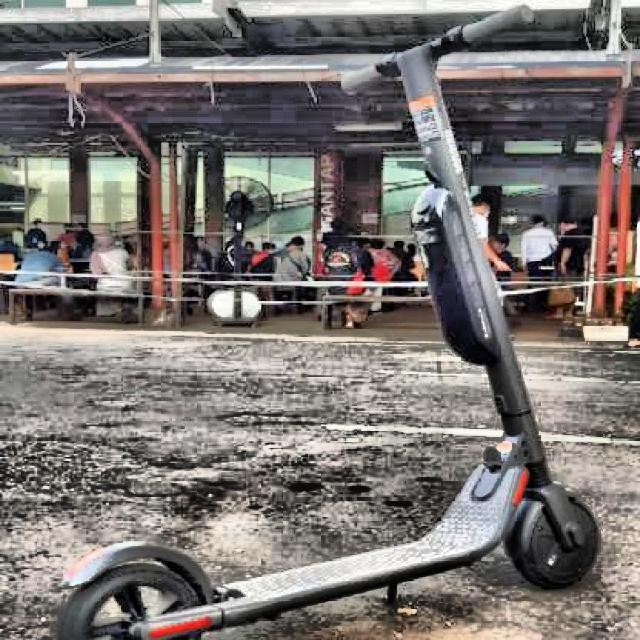bike: (56, 164, 603, 640)
